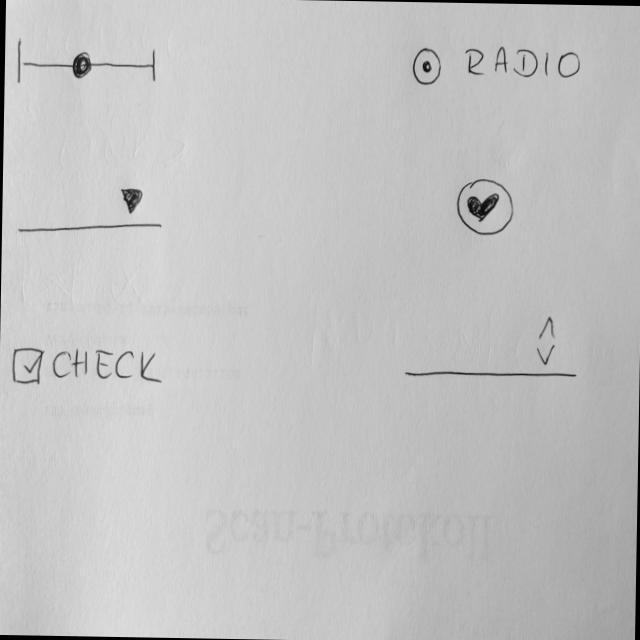checkbox: (9, 342, 166, 389)
icon-button: (454, 175, 514, 238)
number-input: (402, 306, 580, 382)
radio: (411, 41, 584, 89)
select: (14, 179, 166, 237)
slider: (13, 34, 158, 89)
